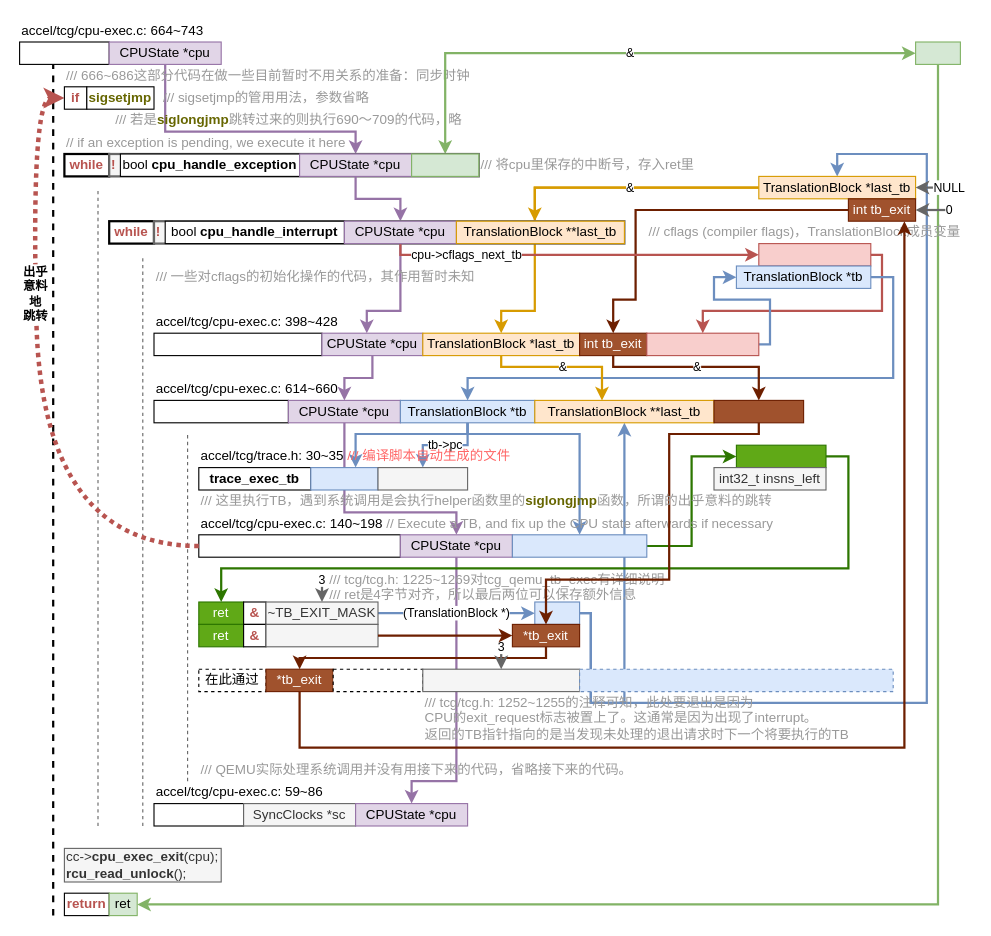
This 991x936 diagram has some shape labels left out. The centre of each missing label's shape, as x and y in pixels:
"align_clocks" goes at (x=198, y=814).
"cpu_loop_exec_tb" goes at (x=220, y=411).
"int *ret" goes at (x=444, y=164).
"int *tb_exit" goes at (x=758, y=411).
"int cpu_exec" goes at (x=63, y=52).
"int ret" goes at (x=937, y=52).
"tb" goes at (x=557, y=612).
"TB_EXIT_MASK" goes at (x=321, y=635).
"TB_EXIT_REQUESTED" goes at (x=501, y=680).
"tcg_target_ulong cpu_tb_exec" goes at (x=299, y=545).
"TranslationBlock * tb_find" goes at (x=237, y=344).
"TranslationBlock *itb" goes at (x=579, y=545).
"uint32_t cf_mask" goes at (x=702, y=344).
"uint32_t cflags" goes at (x=814, y=254).
"uintprt_t pc" goes at (x=422, y=478).
"uintprt_t ret" goes at (x=780, y=456).
"void *tb" goes at (x=344, y=478).
"的值是否等于" goes at (x=377, y=680).
"若等于则return且*last_tb=tb，不等于则继续执行" goes at (x=735, y=680).
